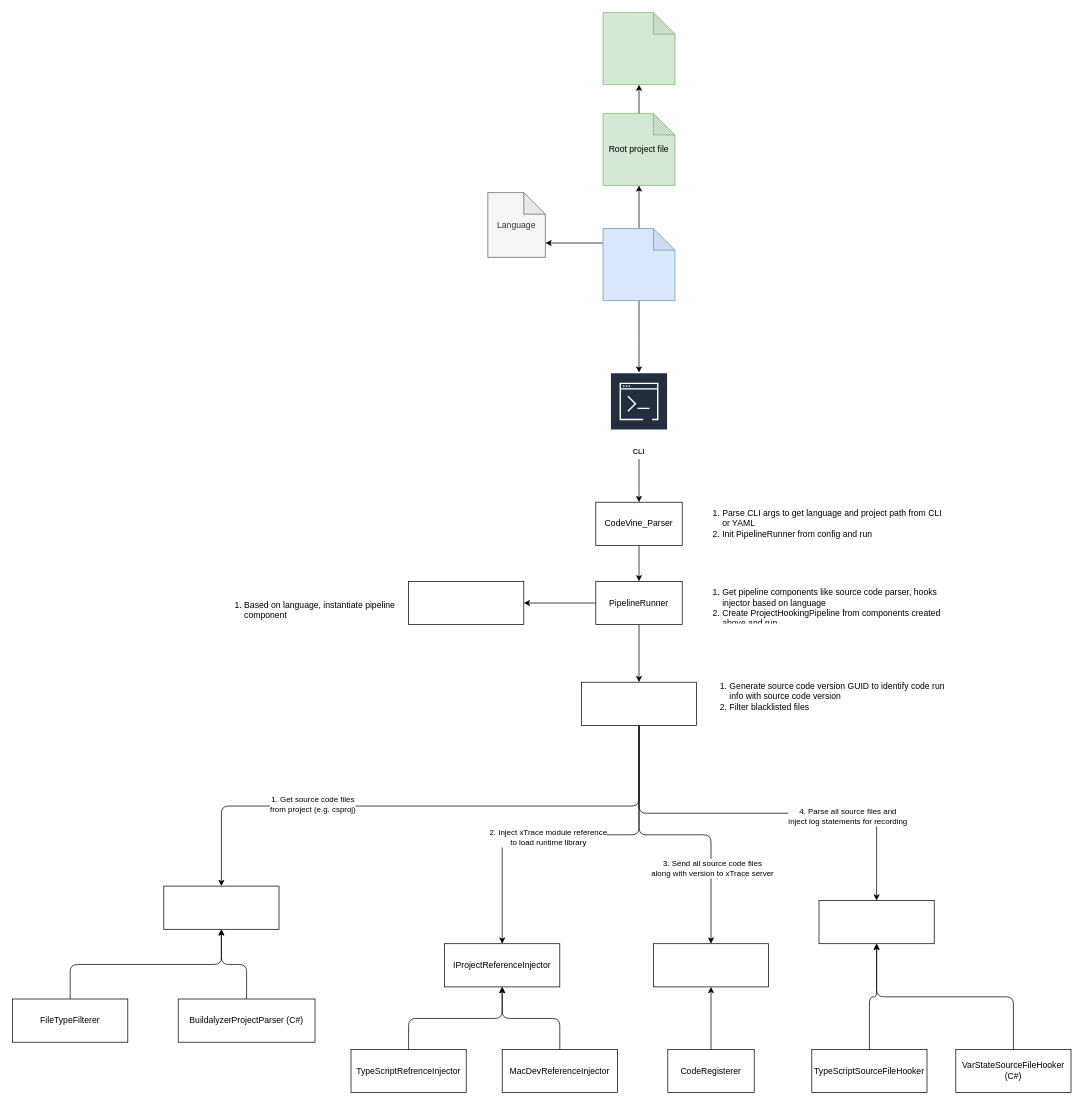
The diagram is 1084 pixels wide and 1105 high, and some of its shapes have lost their labels. Here are the shapes that lost their labels. From the top down, the box of each, then its label:
(602, 12, 675, 85): Source code
(602, 228, 675, 301): Codehooks config
(408, 581, 524, 625): ComponentFactory
(581, 681, 697, 725): ProjectHookingPipeline
(163, 885, 279, 929): IProjectParser
(818, 900, 934, 944): ISourceFileHooker
(653, 943, 769, 987): ICodeRegisterer
